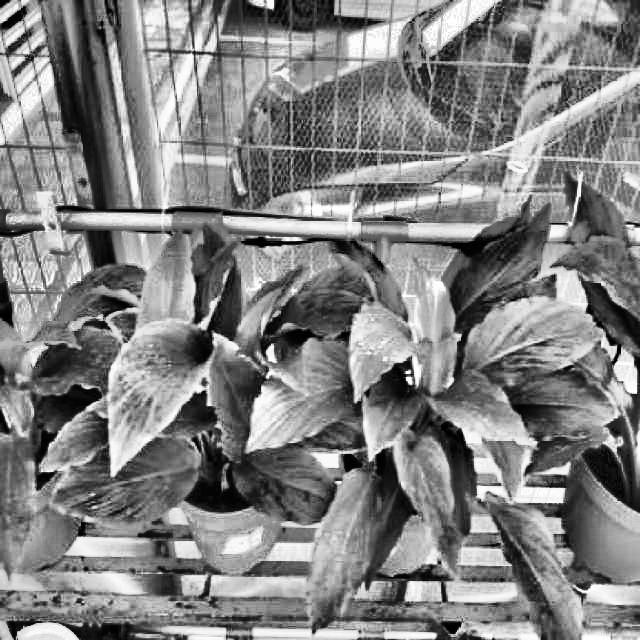plants: (243, 192, 622, 638), (36, 206, 338, 529)
